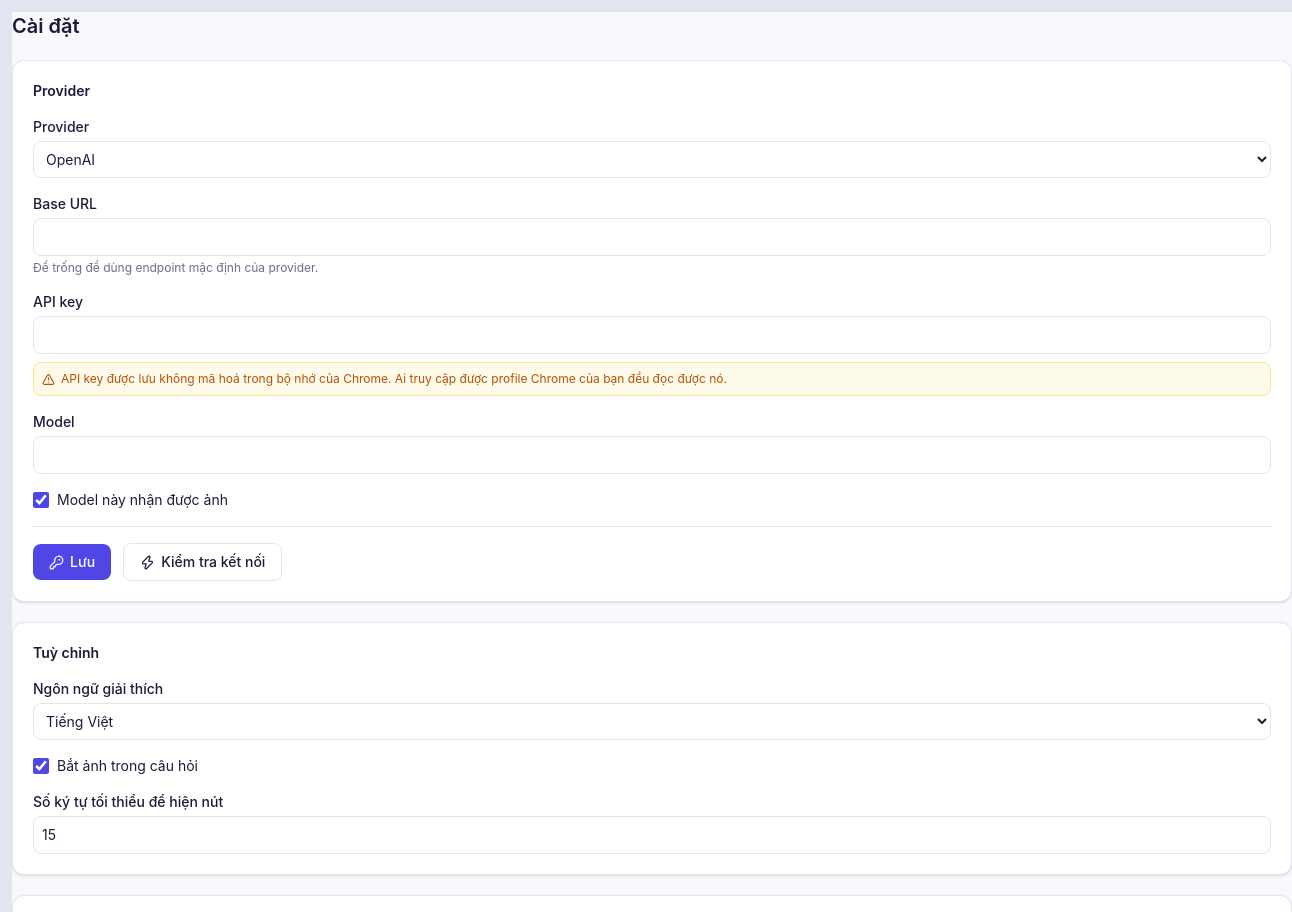
Test: Settings view › reports the result of a connection test
The width and height of the screenshot is (1292, 912).
Type "k" into the password field labelled "API key".
click(652, 335); type("k")  # box 33,316 -> 1271,354
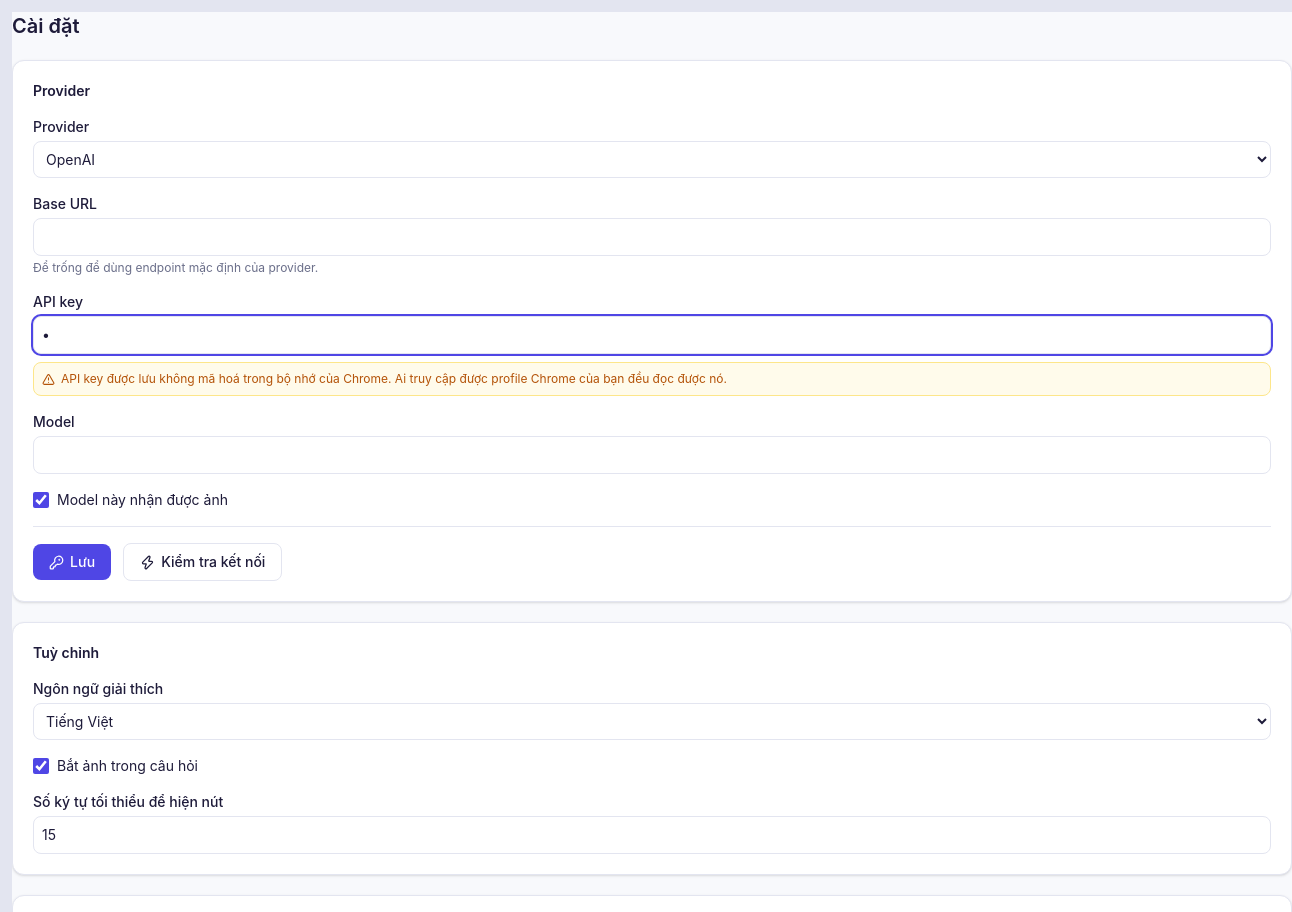
Type "m" into the field labelled "Model".
click(652, 455); type("m")  # box 33,436 -> 1271,474
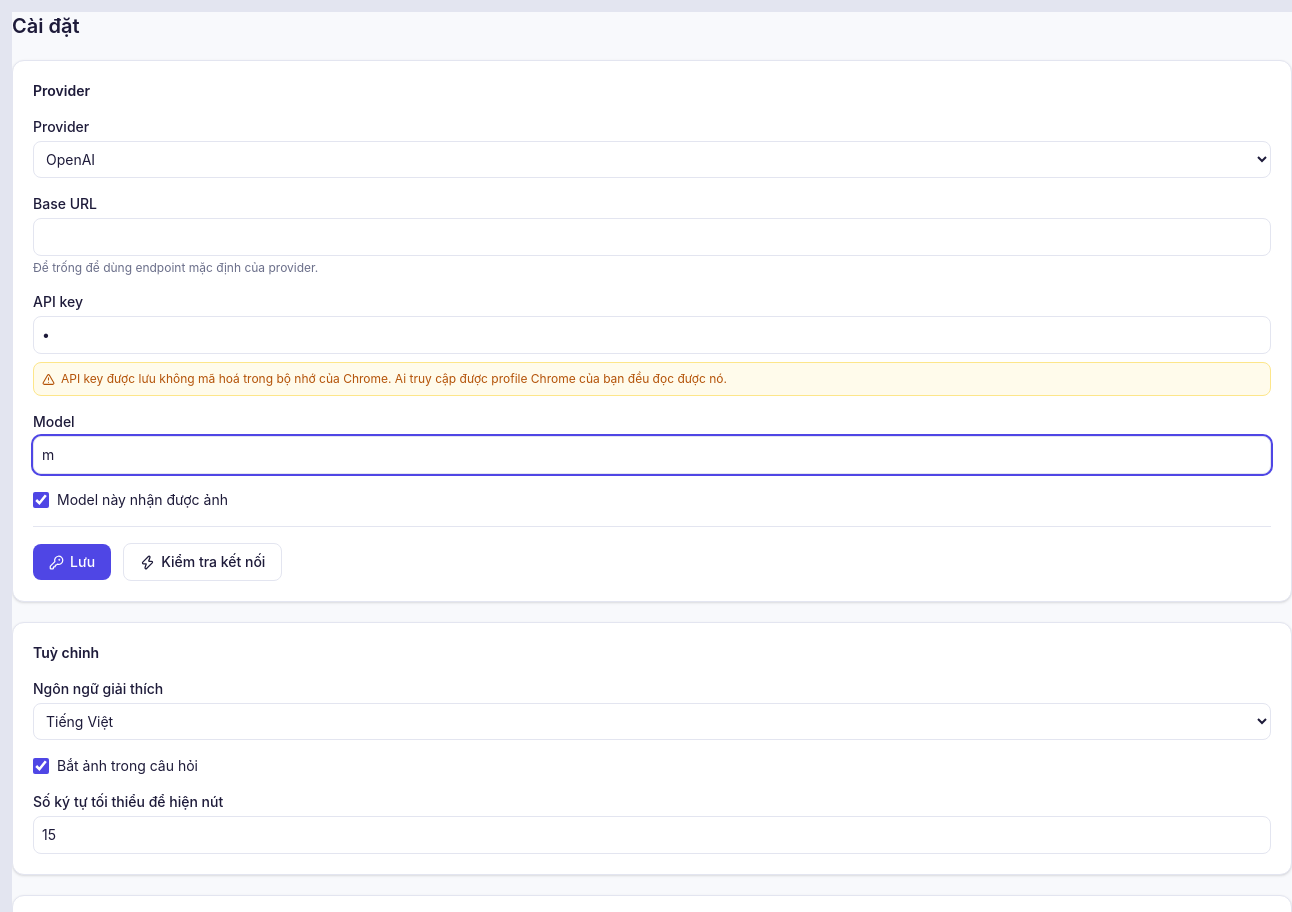
Click the button "Kiểm tra kết nối".
click(203, 562)  # box 123,543 -> 282,581
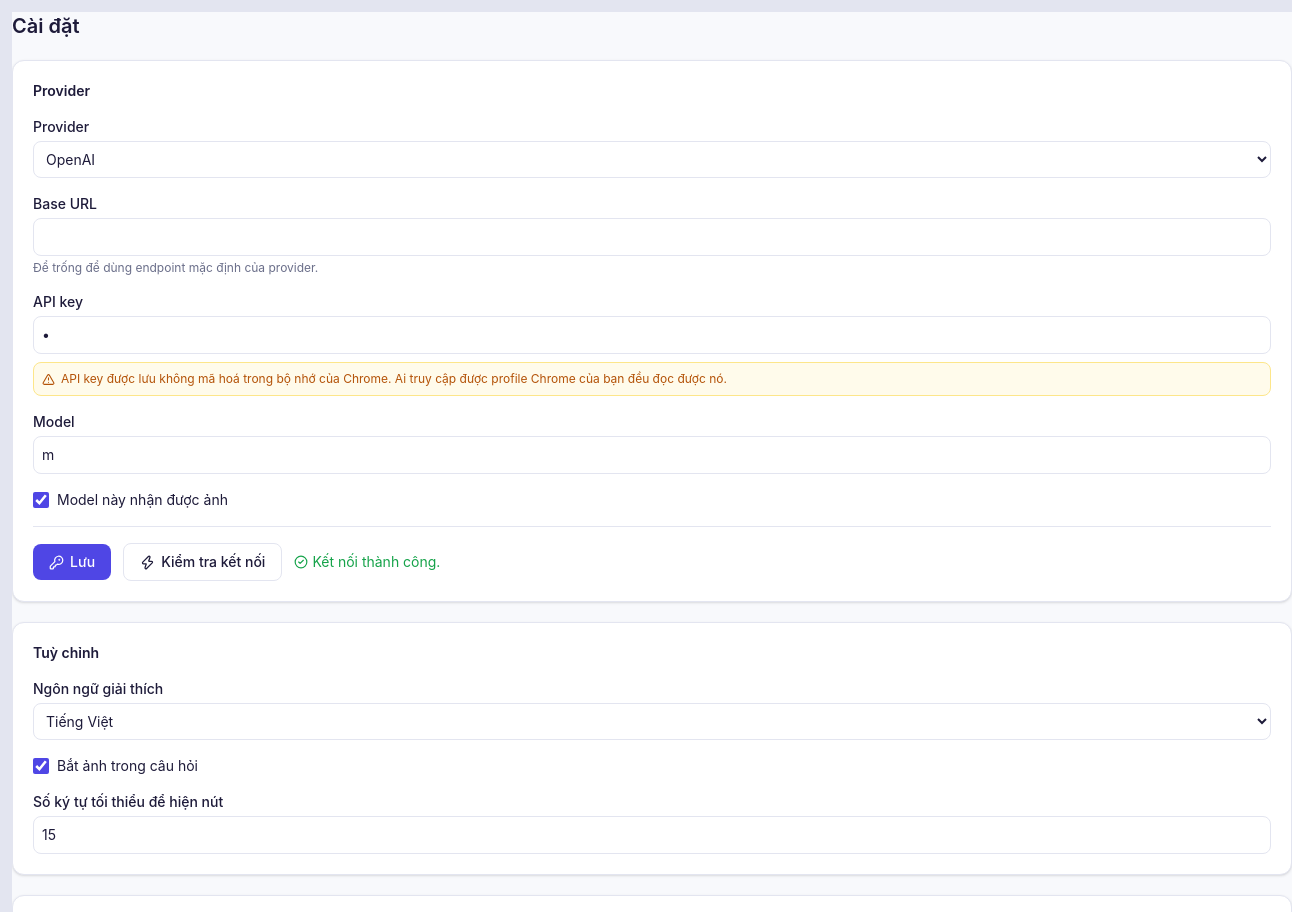
expect the text "Kết nối thành công." is shown: met, box 294,552 -> 440,572
